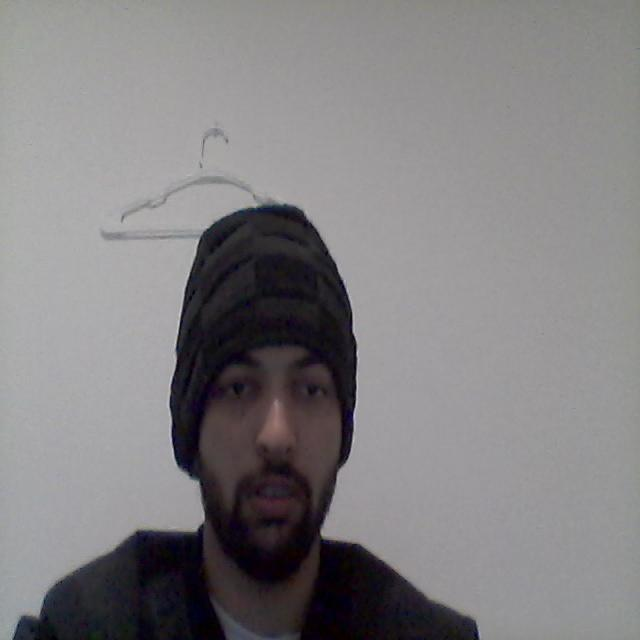cap: (143, 190, 391, 466)
